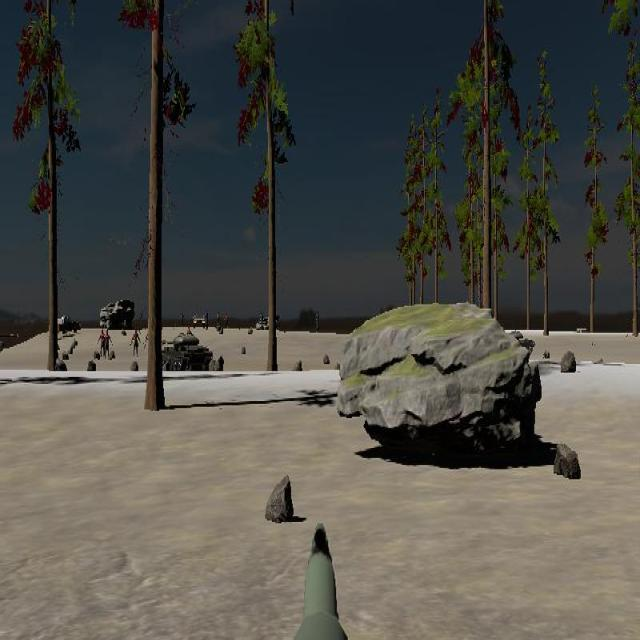Tank: (156, 332, 212, 372)
